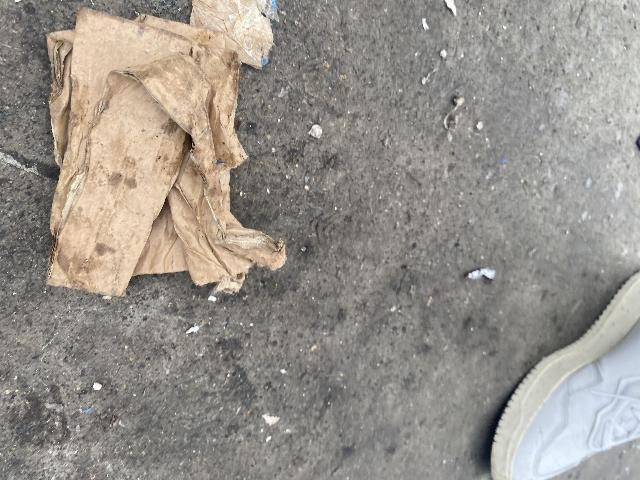Kagit: (14, 0, 308, 321), (457, 259, 525, 292)
